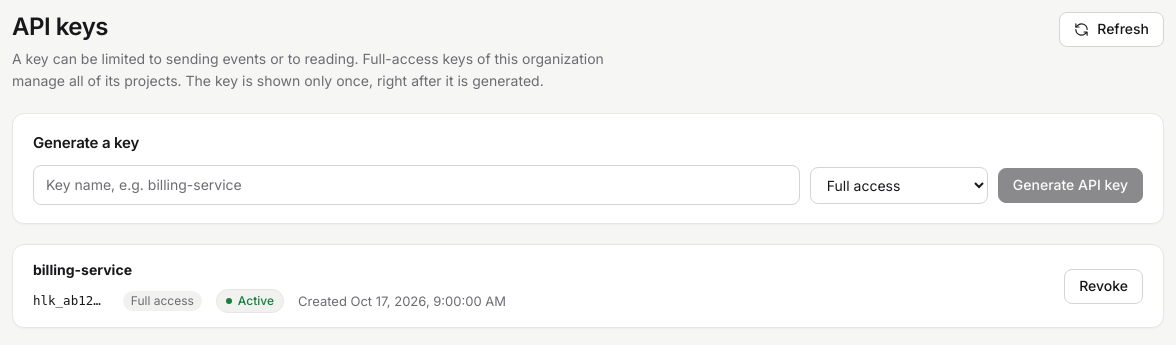
Scenario: APIKeysPage › revokes a key only after confirmation
What coordinates should you click on to do the following:
click the button "Revoke"
I would click on:
 (1104, 286)
Its box is [1064,269,1143,304].
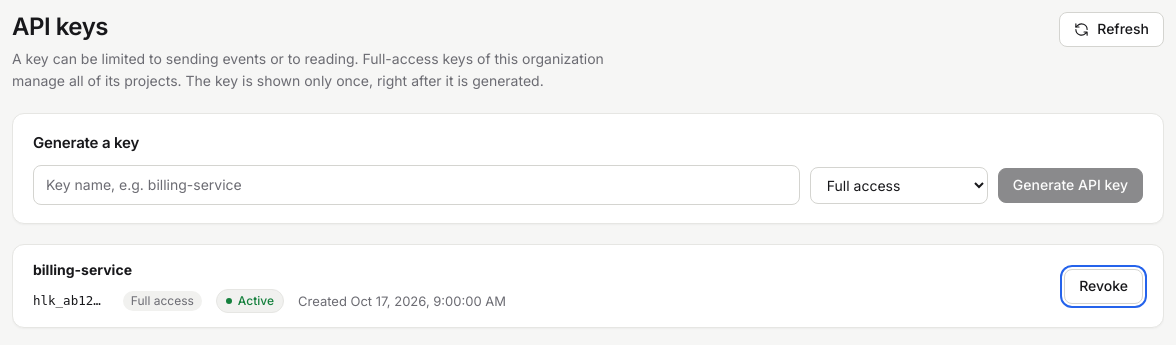
What coordinates should you click on to do the following:
click the button "Revoke"
I would click on:
 (1104, 286)
Its box is [1064,269,1143,304].
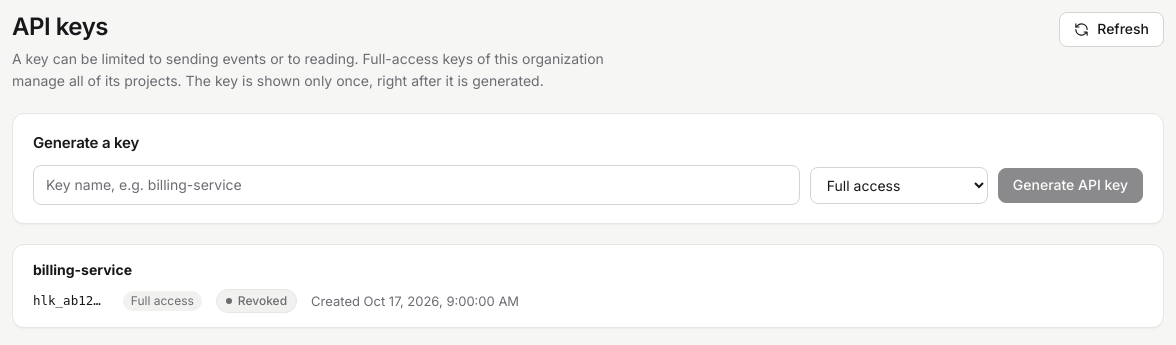
Check: the text "Revoked" is shown, box [216,289,297,313]
